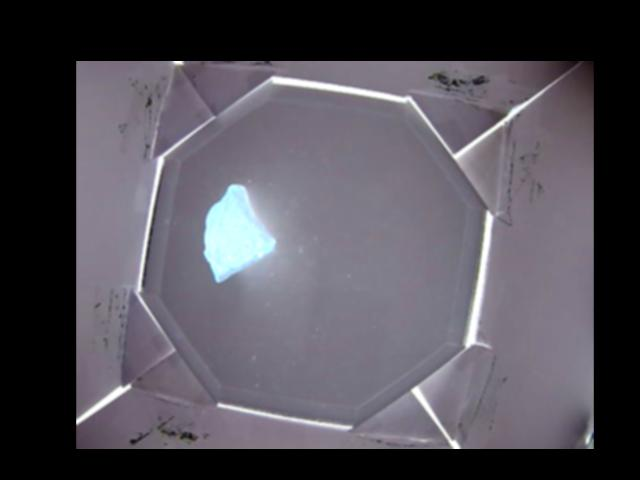Brisk: (203, 184, 276, 281)
